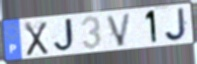1: (143, 9, 159, 45)
3: (80, 14, 104, 51)
J: (163, 7, 189, 43), (53, 17, 78, 54)
V: (105, 11, 133, 48)
X: (23, 21, 50, 58)
